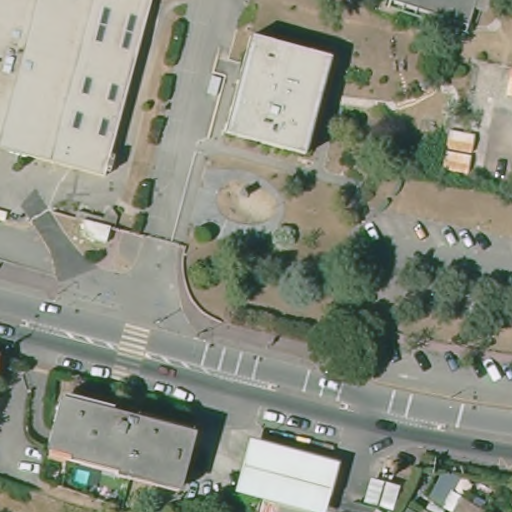pool: (67, 467, 98, 488)
